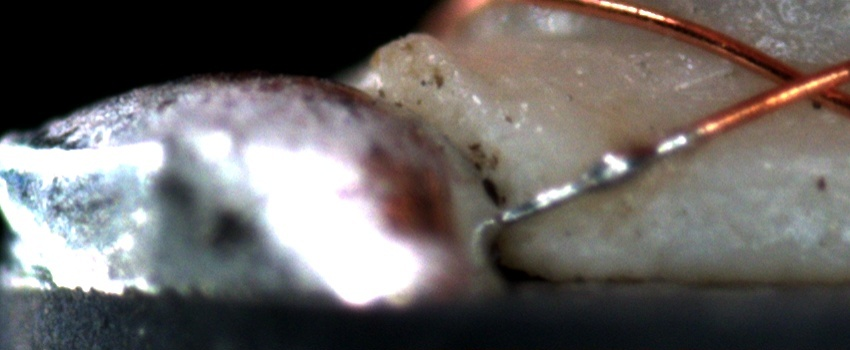CL: (748, 51, 845, 116)
DL: (628, 146, 848, 210)
TB: (585, 144, 655, 193)
TS: (497, 132, 693, 223)
TTCW: (494, 92, 762, 228)
